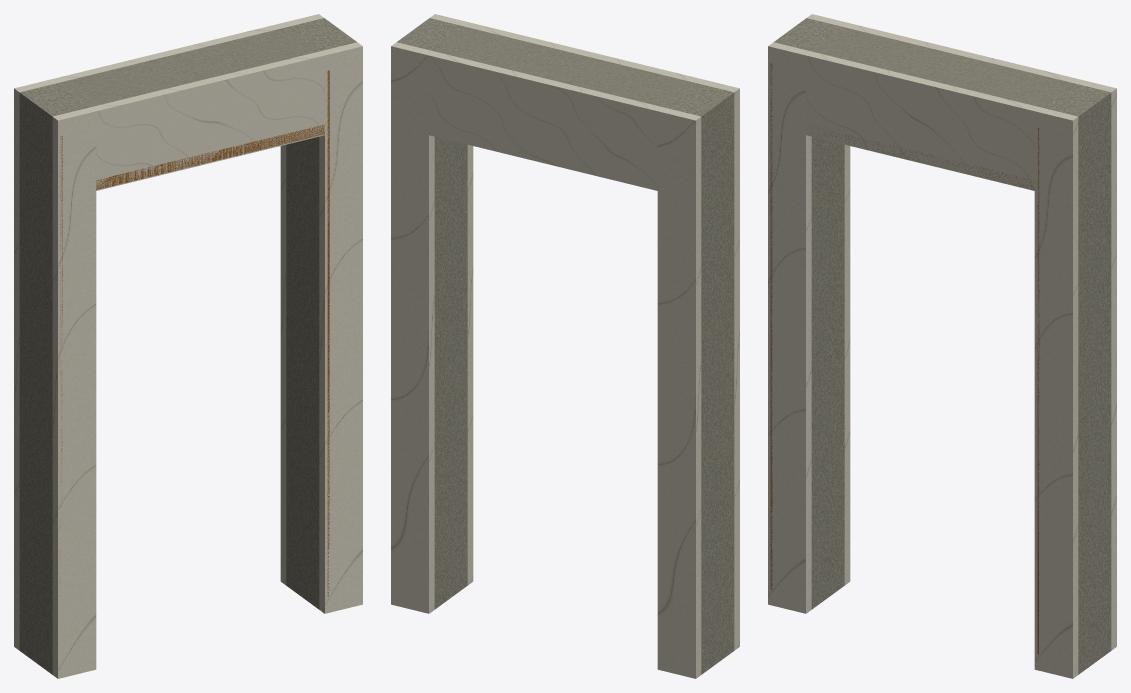
3 renders of one model, left to right at view 1: azimuth 30°, elevation 25°; view 2: azimuth 150°, elevation 25°; view 3: azimuth 330°, elevation 25°, orthographic.
Parts seen in each view (by area): view 1: LOD1__Marble jamb facing, LOD1__Marble jamb facing.002, LOD1__Stone jamb, LOD1__Marble head facing, LOD1__Stone jamb.001, LOD1__Door masonry head, LOD1__Marble jamb facing.001, LOD1__Marble jamb facing.003, LOD1__Bronze outer head trim, LOD1__Bronze jamb trim.002, LOD1__Marble head facing.001; view 2: LOD1__Marble jamb facing.001, LOD1__Marble jamb facing.003, LOD1__Stone jamb, LOD1__Marble head facing.001, LOD1__Stone jamb.001, LOD1__Door masonry head, LOD1__Marble jamb facing, LOD1__Marble jamb facing.002, LOD1__Marble head facing; view 3: LOD1__Marble jamb facing.002, LOD1__Marble jamb facing, LOD1__Stone jamb.001, LOD1__Marble head facing, LOD1__Stone jamb, LOD1__Door masonry head, LOD1__Marble jamb facing.003, LOD1__Marble jamb facing.001, LOD1__Marble head facing.001, LOD1__Bronze jamb trim, LOD1__Bronze jamb trim.002.
Part boxes in pixels (x1,y1,x2,y2): LOD1__Marble jamb facing: (52,107,96,678); LOD1__Marble jamb facing.002: (319,42,362,613); LOD1__Stone jamb: (19,83,90,674); LOD1__Marble head facing: (91,51,324,190); LOD1__Stone jamb.001: (286,18,356,609); LOD1__Door masonry head: (58,27,318,106); LOD1__Marble jamb facing.001: (14,79,56,650); LOD1__Marble jamb facing.003: (280,14,323,585); LOD1__Bronze outer head trim: (96,124,324,189); LOD1__Bronze jamb trim.002: (327,70,329,596); LOD1__Marble head facing.001: (52,23,285,82); LOD1__Marble jamb facing.001: (657,107,701,678); LOD1__Marble jamb facing.003: (391,42,434,613); LOD1__Stone jamb: (663,83,734,674); LOD1__Marble head facing.001: (429,51,662,190); LOD1__Stone jamb.001: (397,18,467,609); LOD1__Door masonry head: (435,27,695,106); LOD1__Marble jamb facing: (697,79,739,650); LOD1__Marble jamb facing.002: (430,14,473,585); LOD1__Marble head facing: (468,23,701,82); LOD1__Marble jamb facing.002: (1034,107,1078,678); LOD1__Marble jamb facing: (768,42,811,613); LOD1__Stone jamb.001: (1040,83,1111,674); LOD1__Marble head facing: (806,51,1039,190); LOD1__Stone jamb: (774,18,844,609); LOD1__Door masonry head: (812,27,1072,106); LOD1__Marble jamb facing.003: (1074,79,1116,650); LOD1__Marble jamb facing.001: (807,14,850,585); LOD1__Marble head facing.001: (845,23,1078,82); LOD1__Bronze jamb trim: (770,63,772,589); LOD1__Bronze jamb trim.002: (1037,128,1039,654).
Bounding box in the file's own units: 1.6 × 2.8 × 0.4.
3 materials, 3 textured.
